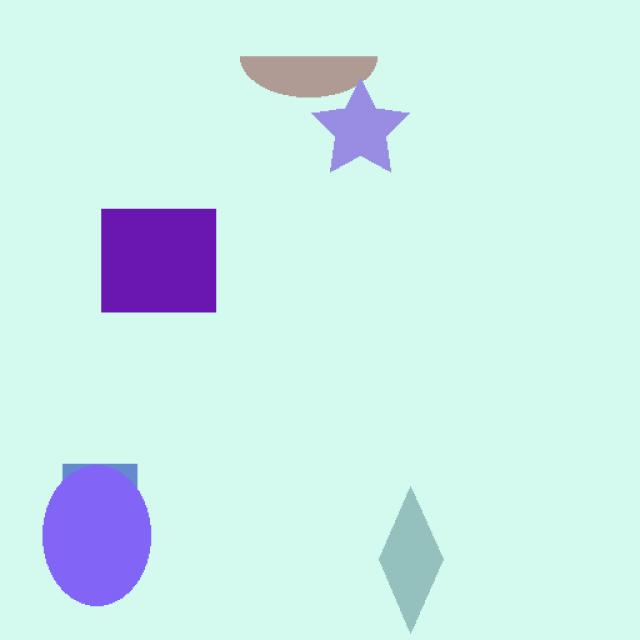Circle: (30, 468, 164, 624)
Kite: (368, 469, 470, 628)
Semicircle: (237, 44, 389, 107)
Star: (298, 68, 426, 188)
square: (92, 199, 245, 336), (54, 453, 156, 557)
